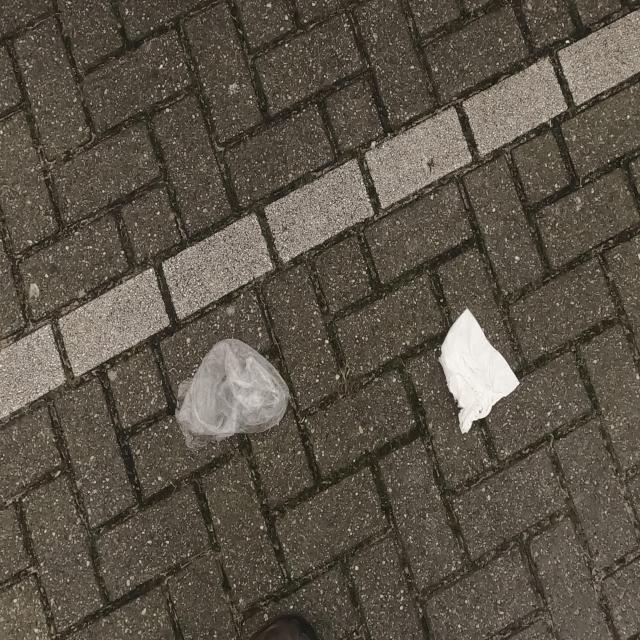Paper: (438, 304, 516, 437)
